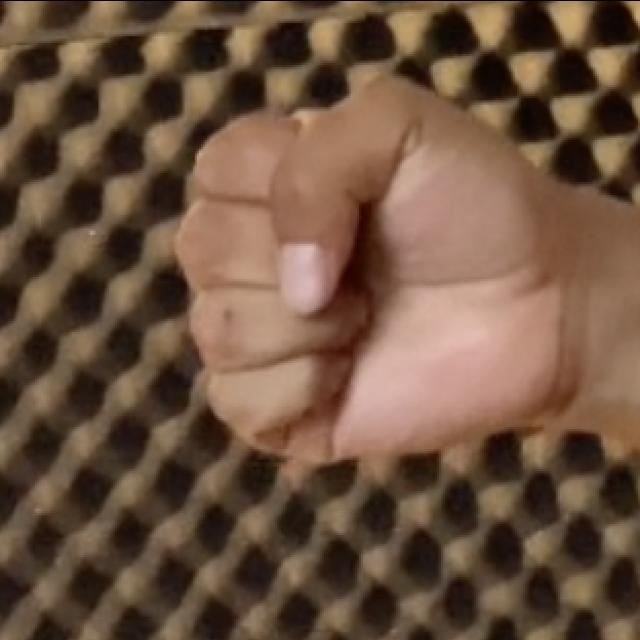S: (166, 68, 586, 470)
